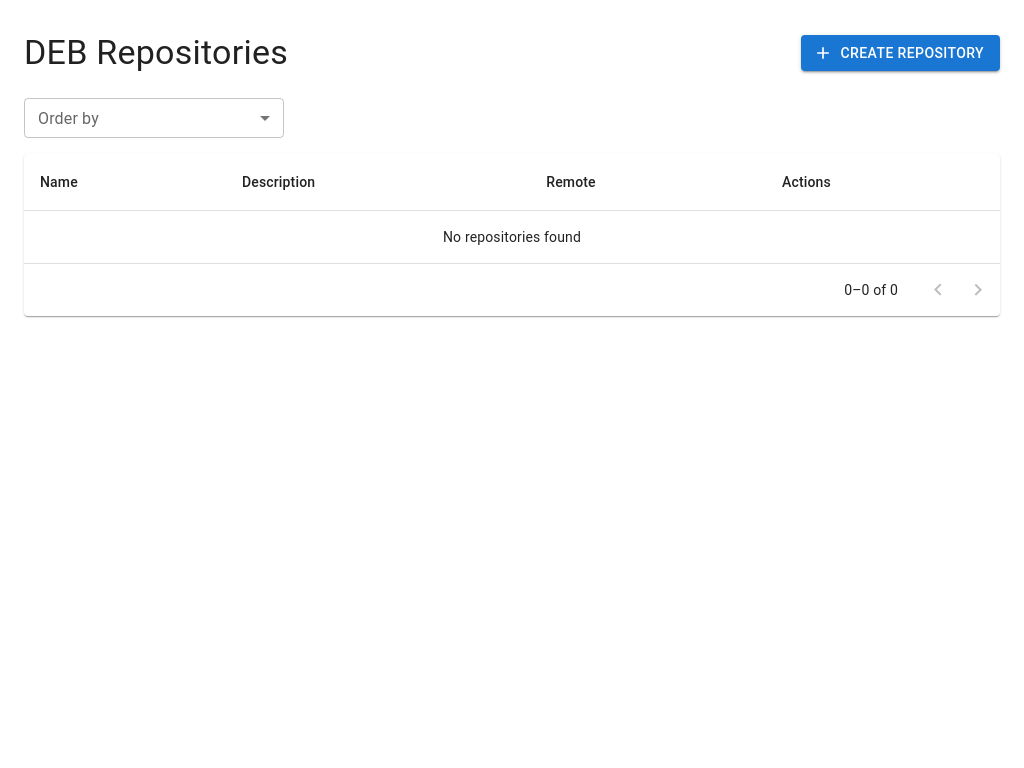
Test: DEB plugin via generic components › does not offer the dropped retain_package_versions field on repositories
Step 1. Click the button "Create Repository" → (900, 53), box [801,35,1000,71]
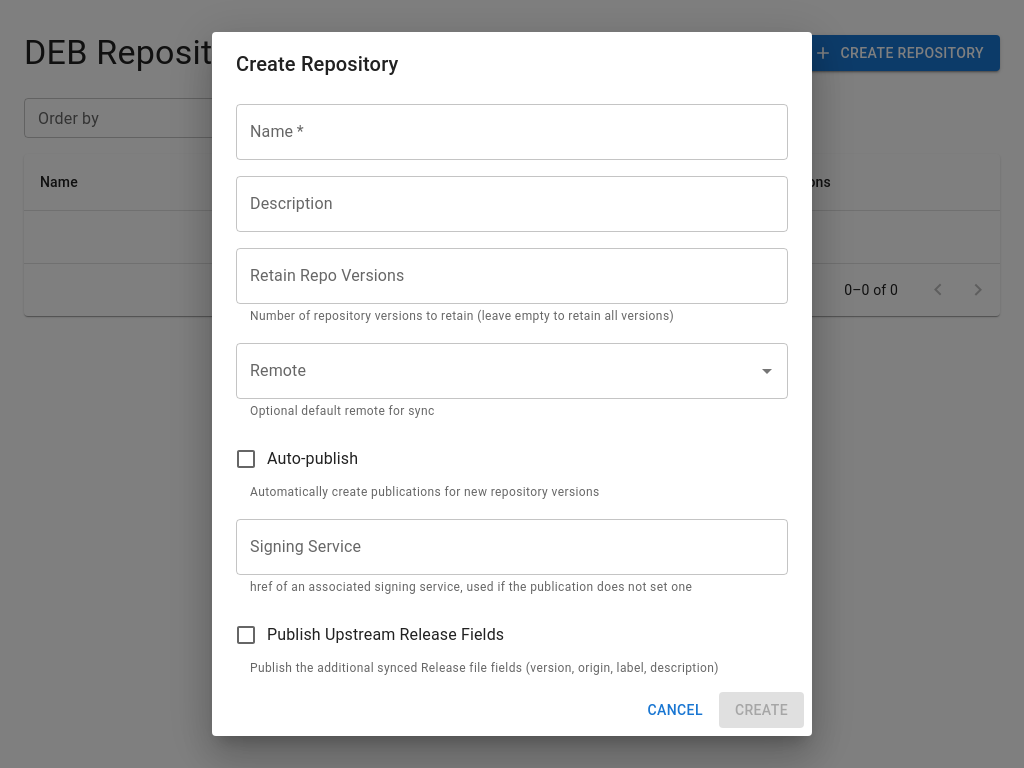
expect the checkbox labelled "Auto-publish" is shown: met, box [234,447,358,471]
expect the field labelled "Signing Service" is shown: met, box [236,519,788,575]
